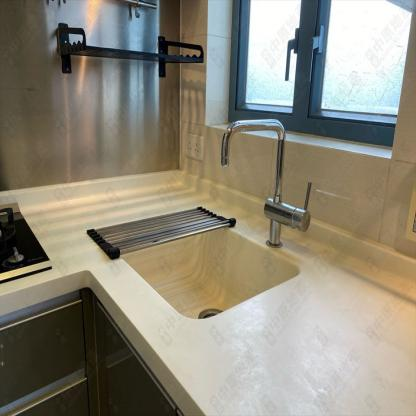Faucet: (217, 117, 297, 249)
Sink: (97, 207, 300, 320)
